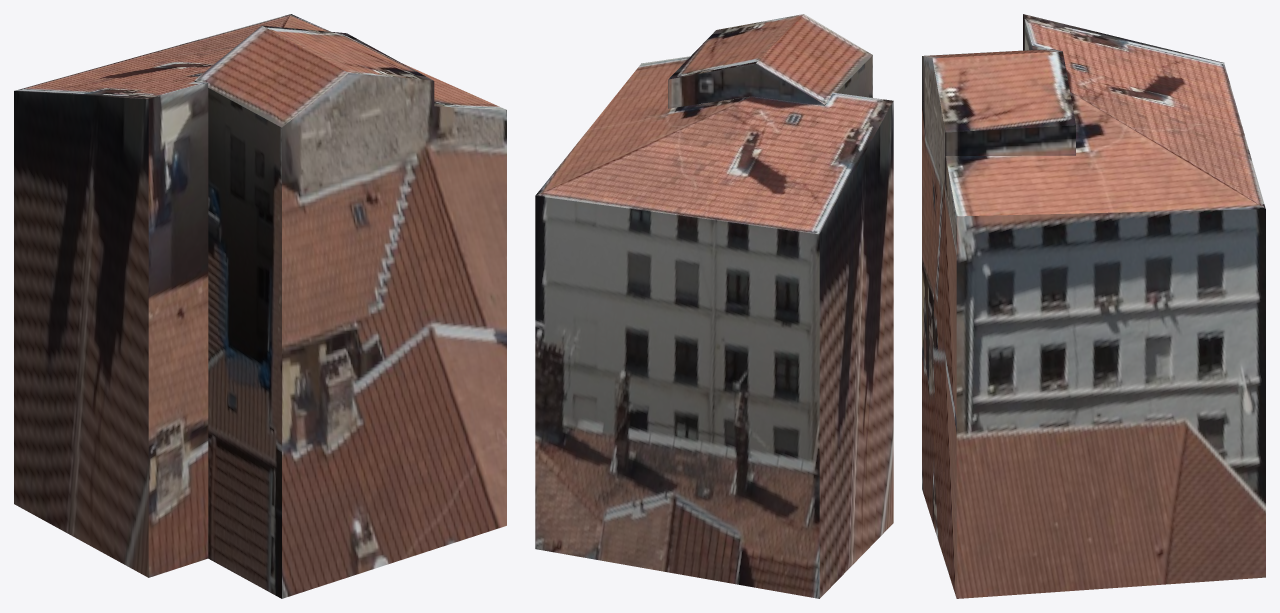
3 renders of one model, left to right at view 1: azimuth 30°, elevation 25°; view 2: azimuth 150°, elevation 25°; view 3: azimuth 270°, elevation 25°, orthographic. The views are drawn at different scales.
Parts seen in each view (by area): view 1: Z_UP; view 2: Z_UP; view 3: Z_UP.
Boxes of the visible parts, x1,y1,x2,y2 form: Z_UP: (14, 14, 506, 598); Z_UP: (535, 14, 893, 598); Z_UP: (922, 14, 1265, 598).
Size of the model in its own units: 15.27 by 21.18 by 14.23.
2 materials, 1 textured.
